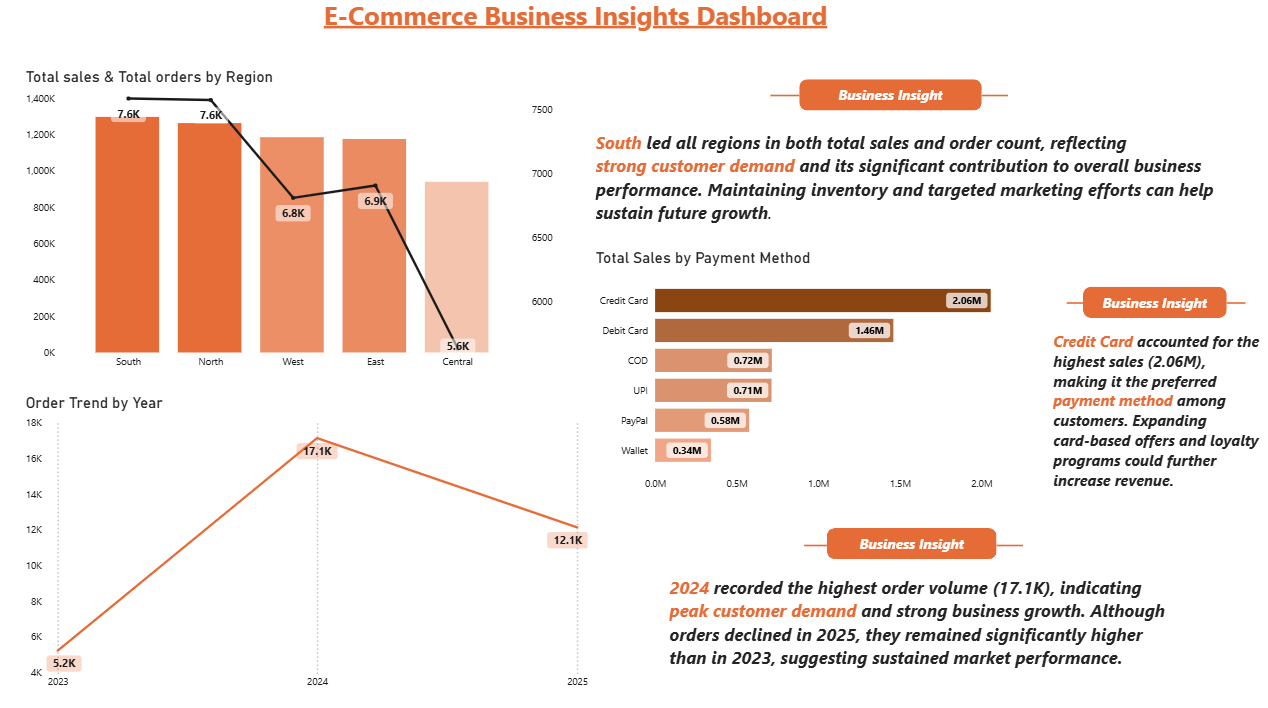

This screenshot's page, from the dashboard's own definition file:
{"tool":"powerbi","page":{"name":"Sales Perfomance","canvas":[1600,900],"ordinal":1},"visuals":[{"type":"textbox","box":[9.6,0,1270.7,148.2],"z":0},{"type":"shape","box":[1002.9,107.3,227,38.9],"z":1000},{"type":"shape","box":[967.2,68.4,35.8,118.2],"z":2000},{"type":"shape","box":[1230,68.4,32.7,118.2],"z":3000},{"type":"textbox","box":[744.8,166.4,838.1,180.4],"z":4000},{"type":"barChart","title":"Total Sales by Payment Method","fields":{"Category":["Ecommerce Data.payment_method"],"Y":["Sum(Ecommerce Data.Total Sales)"]},"box":[744.8,318.8,562.9,309.4],"z":5000},{"type":"lineStackedColumnComboChart","title":"Total sales & Total orders by Region","fields":{"Category":["Ecommerce Data.region"],"Y":["Sum(Ecommerce Data.Total Sales)"],"Y2":["Ecommerce Data.Orders Count"]},"box":[35.8,93.3,665.5,384.1],"z":6000},{"type":"lineChart","title":"Order Trend by Year","fields":{"Category":["Ecommerce Data.order_date.Variation.Date Hierarchy.Year"],"Y":["Ecommerce Data.Orders Count"]},"box":[35.8,499.1,709.1,376.3],"z":7000},{"type":"textbox","box":[1313.9,415.2,286.1,213],"z":8000},{"type":"shape","box":[1355.9,365.4,178.8,38.9],"z":9000},{"type":"shape","box":[1335.7,326.5,20.2,118.2],"z":10000},{"type":"shape","box":[1534.7,326.5,23.3,118.2],"z":11000},{"type":"textbox","box":[836.6,719.9,628.2,155.5],"z":12000},{"type":"shape","box":[1037.2,665.5,211.5,38.9],"z":13000},{"type":"shape","box":[1248.6,628.2,32.7,118.2],"z":14000},{"type":"shape","box":[1009.2,628.2,32.7,118.2],"z":15000}]}

Visuals, with their boxes in screenshot pixels (x1, y1, x2, y2), scaled from the page's 1600x900 canvas onto the 1268x708 screenshot:
textbox: box=[8, 0, 1015, 117]
shape: box=[795, 84, 975, 115]
shape: box=[767, 54, 795, 147]
shape: box=[975, 54, 1001, 147]
textbox: box=[590, 131, 1254, 273]
"Total Sales by Payment Method" barChart: box=[590, 251, 1036, 494]
"Total sales & Total orders by Region" lineStackedColumnComboChart: box=[28, 73, 556, 376]
"Order Trend by Year" lineChart: box=[28, 393, 590, 689]
textbox: box=[1041, 327, 1267, 494]
shape: box=[1075, 287, 1216, 318]
shape: box=[1059, 257, 1075, 350]
shape: box=[1216, 257, 1235, 350]
textbox: box=[663, 566, 1161, 689]
shape: box=[822, 524, 990, 554]
shape: box=[990, 494, 1015, 587]
shape: box=[800, 494, 826, 587]
